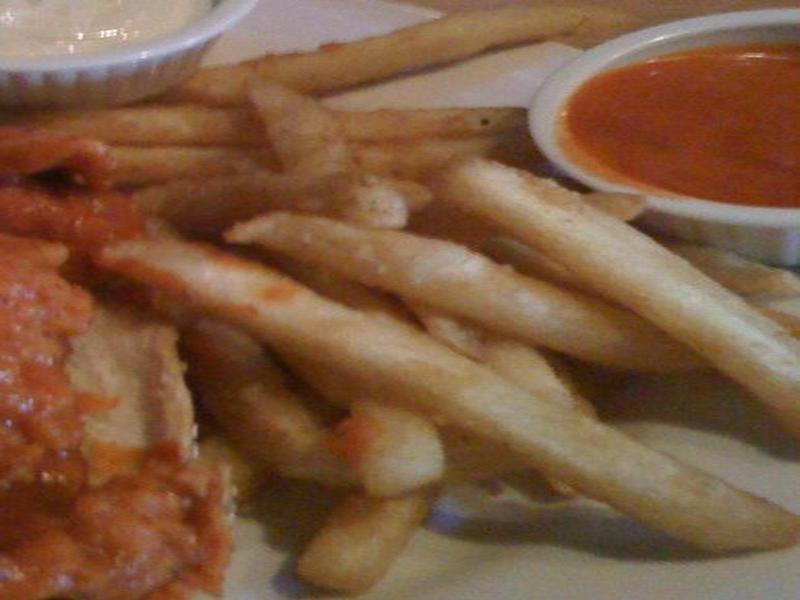french_fries: (31, 25, 790, 600)
